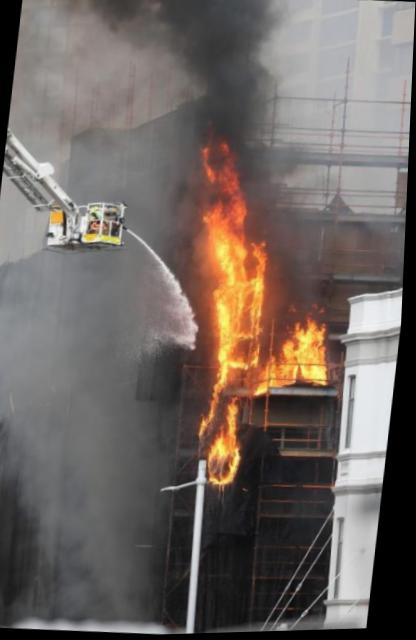fire: (180, 124, 359, 491)
